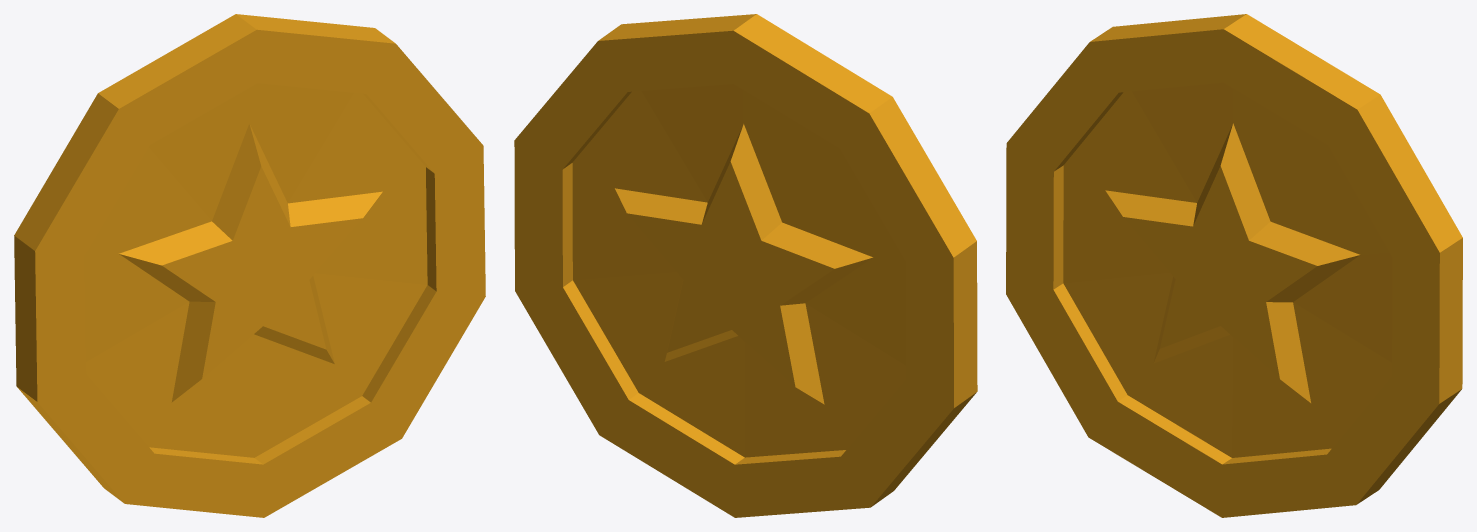
Rendered from coin.glb.
The picture shows the model from 3 angles, left to right: view 1: azimuth 30°, elevation 25°; view 2: azimuth 150°, elevation 25°; view 3: azimuth 330°, elevation 25°; orthographic projection.
Parts seen in each view (by area): view 1: Cylinder_0; view 2: Cylinder_0; view 3: Cylinder_0.
Part boxes in pixels (<box>): Cylinder_0: <box>14,14,485,517</box>; Cylinder_0: <box>514,14,977,517</box>; Cylinder_0: <box>1006,14,1462,517</box>.
Size of the model in its own units: 2.84 by 2.97 by 0.3505.
